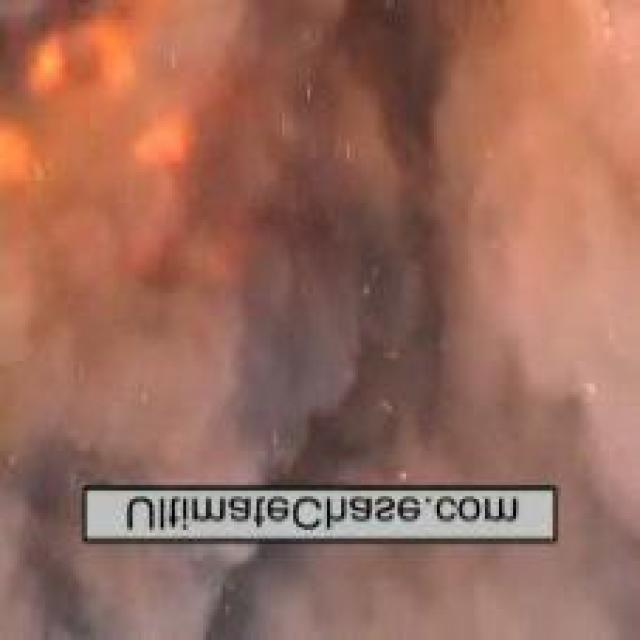smoke: (3, 7, 629, 592)
